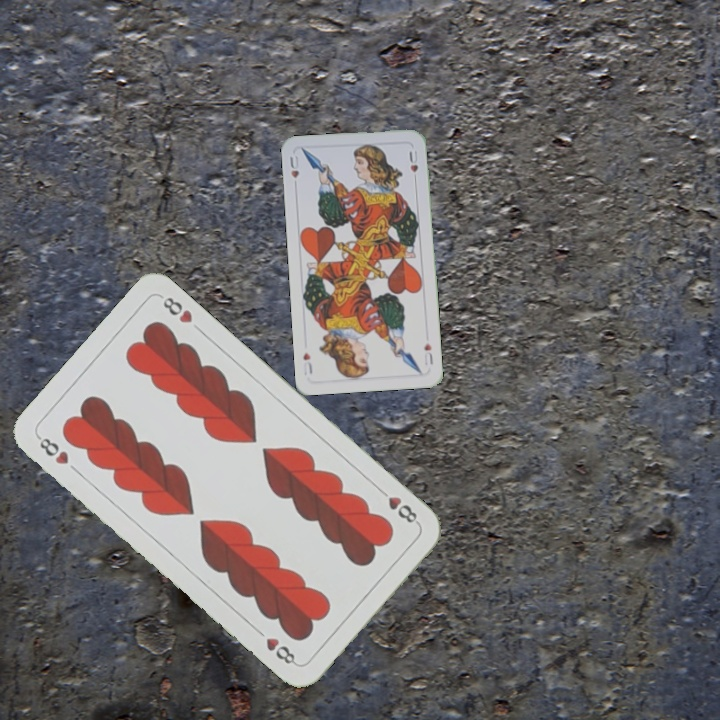H8: (373, 483, 422, 527), (33, 432, 71, 468)
HU: (286, 152, 302, 181), (420, 339, 435, 368)
